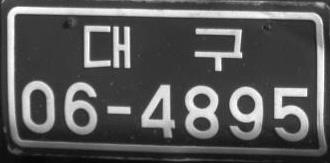0: (21, 79, 55, 134)
4: (141, 82, 175, 139)
5: (273, 85, 309, 142)
6: (63, 80, 98, 134)
8: (184, 84, 219, 139)
9: (228, 84, 263, 140)
대구_D: (83, 23, 243, 70)
